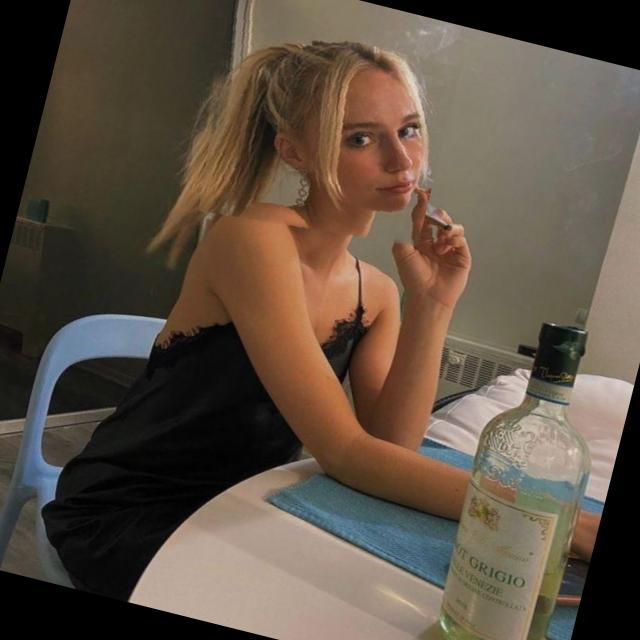cigarette: (372, 170, 473, 248)
